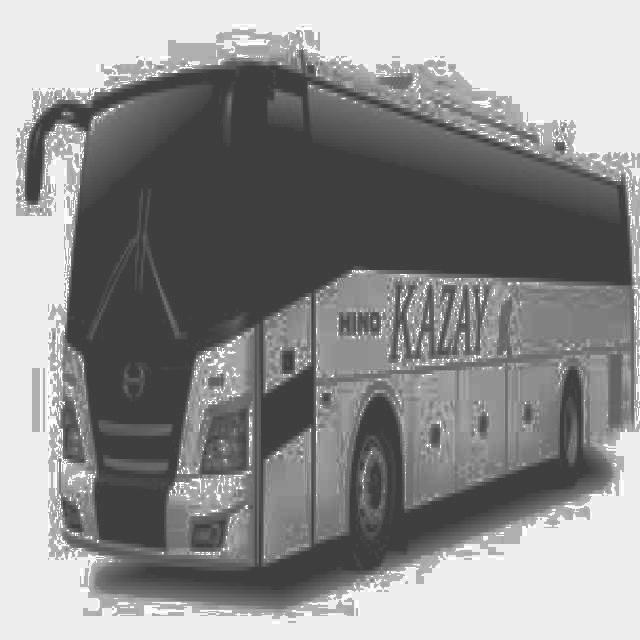Bus: (14, 54, 640, 590)
